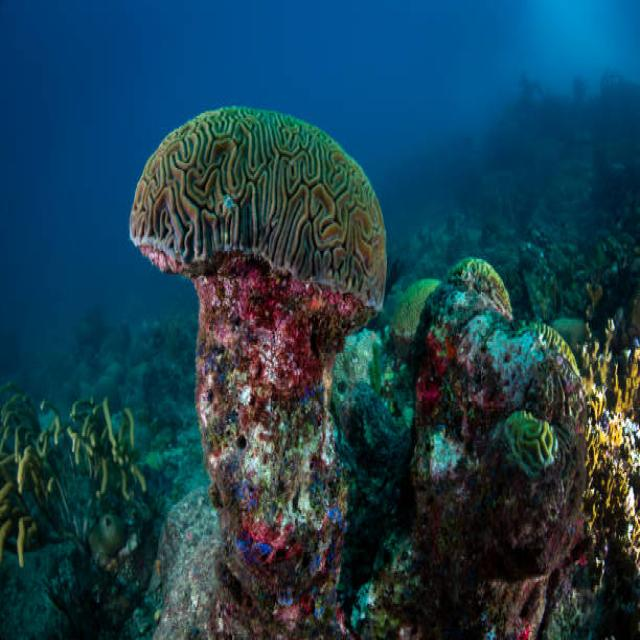Coral: (130, 107, 388, 311), (0, 378, 147, 567), (450, 255, 512, 321), (504, 410, 558, 479), (389, 278, 443, 347), (519, 322, 580, 380)
